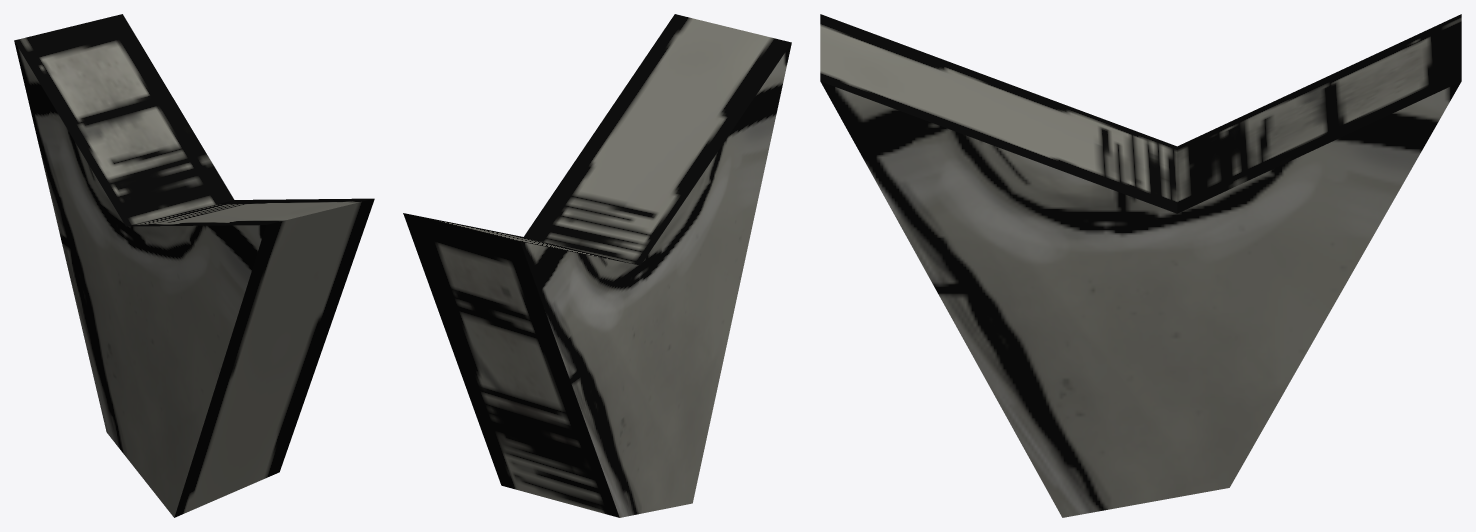
The model's file is tombstone_06_gib5.fbx.
The picture shows the model from 3 angles, left to right: view 1: azimuth 30°, elevation 25°; view 2: azimuth 150°, elevation 25°; view 3: azimuth 270°, elevation 25°; orthographic projection. The views are drawn at different scales.
Parts seen in each view (by area): view 1: tombstone_06_gib5; view 2: tombstone_06_gib5; view 3: tombstone_06_gib5.
Part boxes in pixels (left/top/right/bottom): tombstone_06_gib5: left=14, top=14, right=374, bottom=517; tombstone_06_gib5: left=403, top=14, right=791, bottom=517; tombstone_06_gib5: left=820, top=14, right=1461, bottom=517.
Bounding box in the file's own units: 1 × 3.17 × 4.02.
